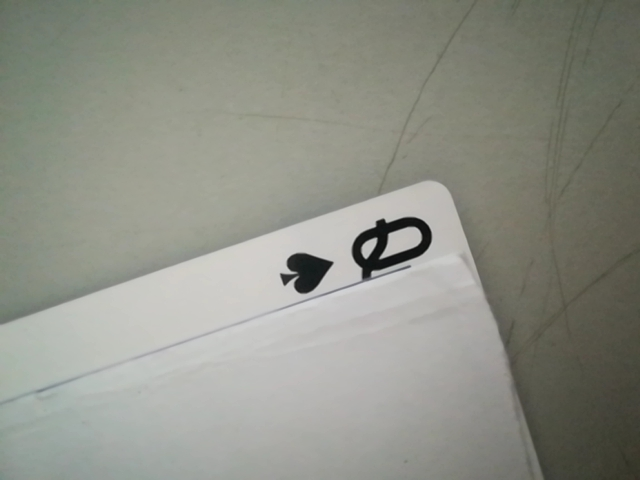ht q: (267, 203, 455, 304)
